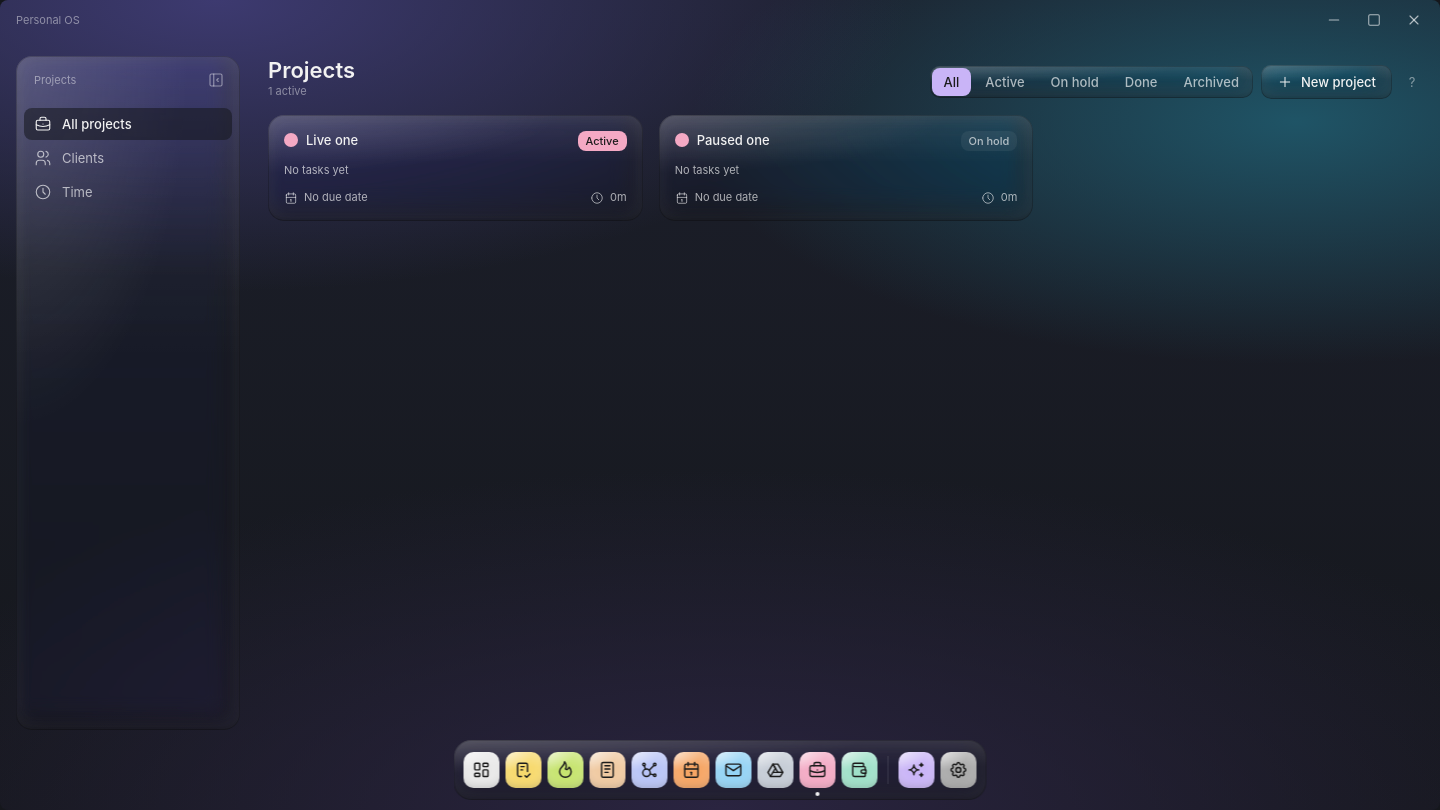
it: project cards › are filtered by status
Expected: the button "Live one" is shown, [306,131,570,150]
Expected: the button "Paused one" is shown, [697,131,952,150]
Click the radio button labelled "On hold" at (1075, 82), box [1038,68,1111,96]
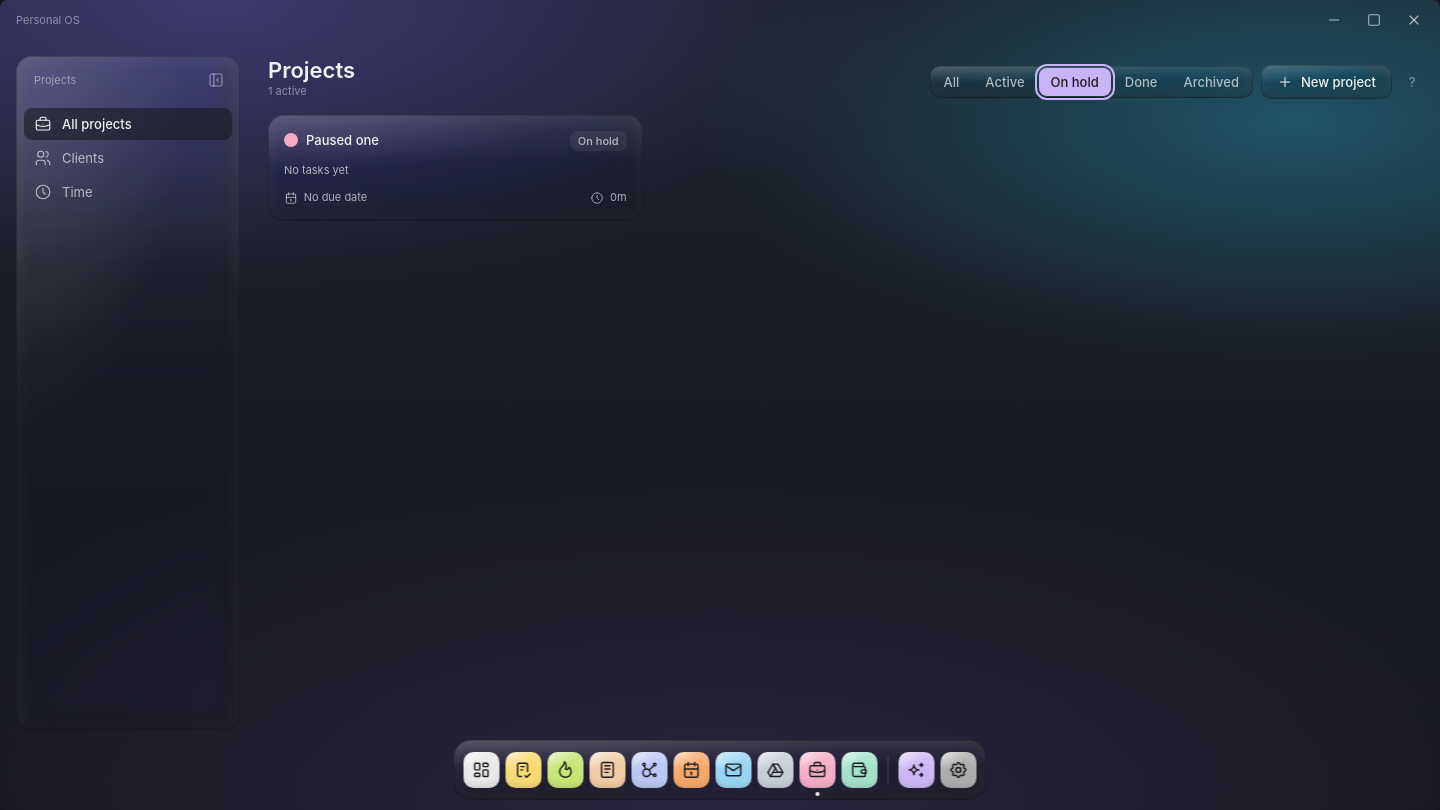
Expected: the button "Paused one" is shown, [306,131,562,150]
Expected: the button "Live one" is gone
Click the radio button labelled "Done" at (1141, 82), box [1113,68,1170,96]
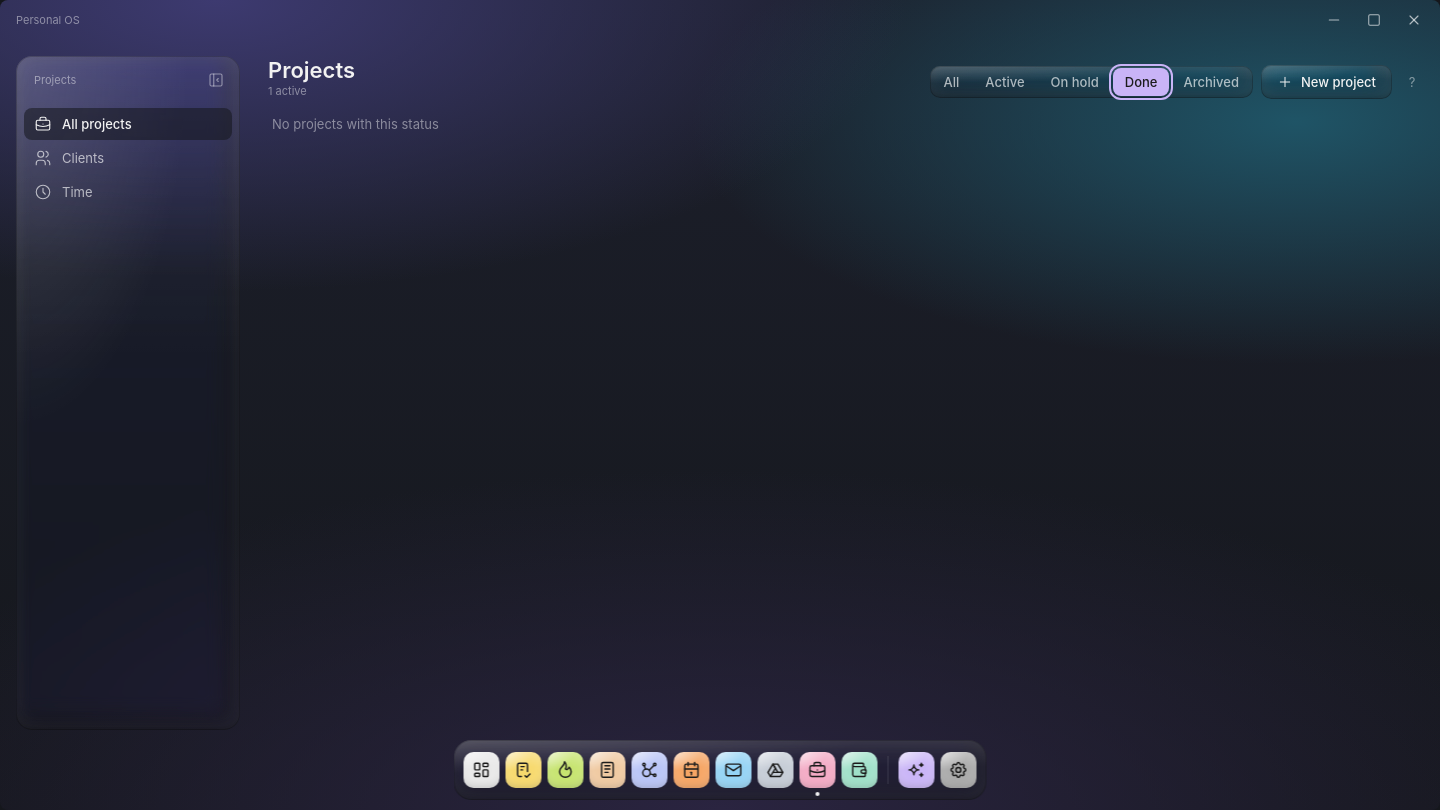
Expected: the text "No projects with this status" is shown, [272,116,439,132]
